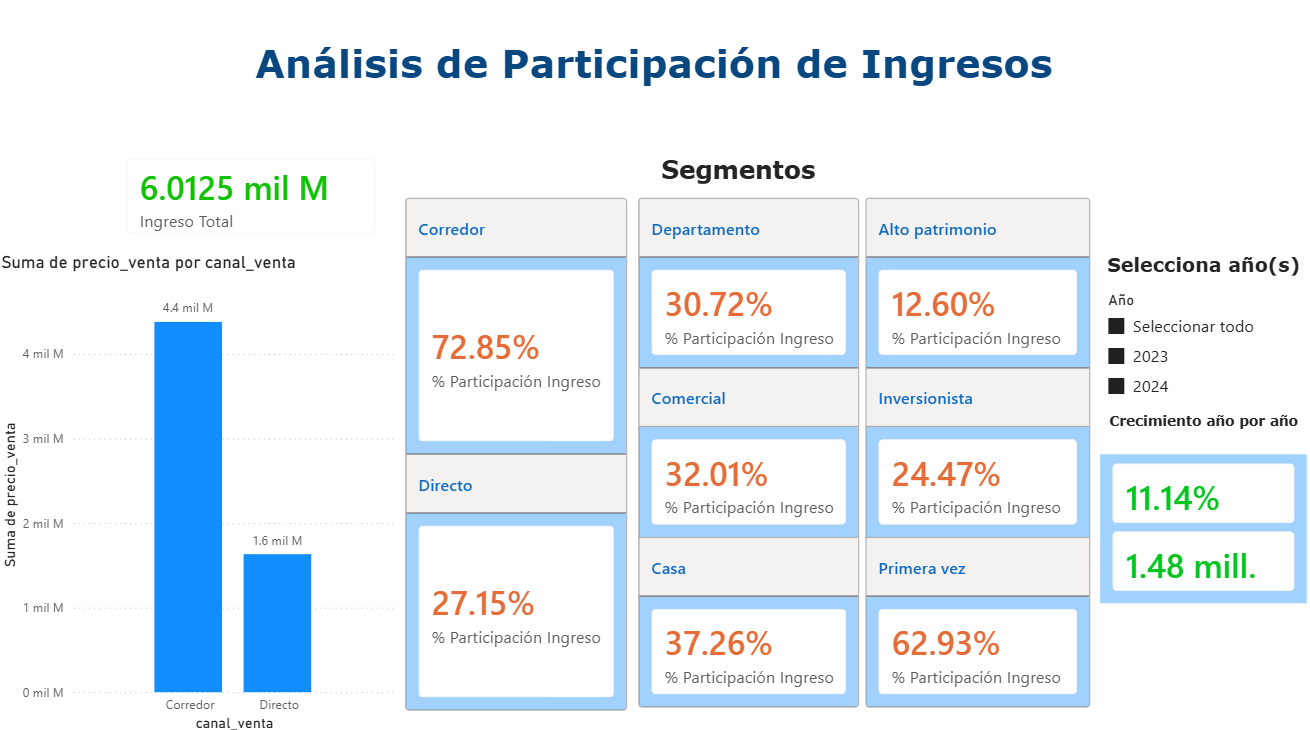

The page's visual inventory and layout, read from the dashboard file:
{"tool":"powerbi","page":{"name":"Overview","canvas":[1280,720],"ordinal":0},"visuals":[{"type":"clusteredColumnChart","fields":{"Category":["hecho_ventas_propiedades.canal_venta"],"Y":["Sum(hecho_ventas_propiedades.precio_venta)"]},"box":[0,248.7,393.3,471.2],"z":0},{"type":"cardVisual","fields":{"Data":["DIM_fecha.Ingreso Total"]},"box":[109.9,141,276.2,108],"z":1000},{"type":"cardVisual","fields":{"Data":["DIM_fecha.% Participación Ingreso"],"Rows":["dim_clientes.segmento_comprador"]},"box":[840.2,170.9,229.3,548.7],"z":2000},{"type":"cardVisual","fields":{"Data":["DIM_fecha.% Participación Ingreso"],"Rows":["hecho_ventas_propiedades.tipo_propiedad"]},"box":[619.8,170.9,225.9,548.7],"z":3000},{"type":"cardVisual","fields":{"Data":["DIM_fecha.% Participación Ingreso"],"Rows":["hecho_ventas_propiedades.canal_venta"]},"box":[393.3,170.9,226,549],"z":4000},{"type":"textbox","title":"Análisis de Participación de Ingresos","box":[0,42.3,1280,52.3],"z":5000},{"type":"textbox","title":"Segmentos","box":[629.9,153.7,183.7,33.4],"z":6000},{"type":"cardVisual","fields":{"Data":["DIM_fecha.Crecimiento YoY (%)","Sum(DIM_fecha.Año)"]},"box":[1068.7,437.8,211.3,158.7],"z":7000},{"type":"textbox","box":[1068.7,398.4,211.3,46.5],"z":8000},{"type":"slicer","title":"Selecciona año(s)","fields":{"Values":["DIM_fecha.Año"]},"box":[1068.7,248.7,211.3,149.6],"z":9000}]}

Visuals, with their boxes in screenshot pixels (x1, y1, x2, y2), scaled from the page's 1280x720 canvas onto the 1310x730 screenshot:
clusteredColumnChart - hecho_ventas_propiedades.canal_venta x Sum(hecho_ventas_propiedades.precio_venta): [0, 252, 403, 729]
cardVisual - DIM_fecha.Ingreso Total: [112, 143, 395, 252]
cardVisual - DIM_fecha.% Participación Ingreso x dim_clientes.segmento_comprador: [860, 173, 1095, 729]
cardVisual - DIM_fecha.% Participación Ingreso x hecho_ventas_propiedades.tipo_propiedad: [634, 173, 866, 729]
cardVisual - DIM_fecha.% Participación Ingreso x hecho_ventas_propiedades.canal_venta: [403, 173, 634, 729]
"Análisis de Participación de Ingresos" textbox: [0, 43, 1309, 96]
"Segmentos" textbox: [645, 156, 833, 190]
cardVisual - DIM_fecha.Crecimiento YoY (%) x Sum(DIM_fecha.Año): [1094, 444, 1309, 605]
textbox: [1094, 404, 1309, 451]
"Selecciona año(s)" slicer: [1094, 252, 1309, 404]
